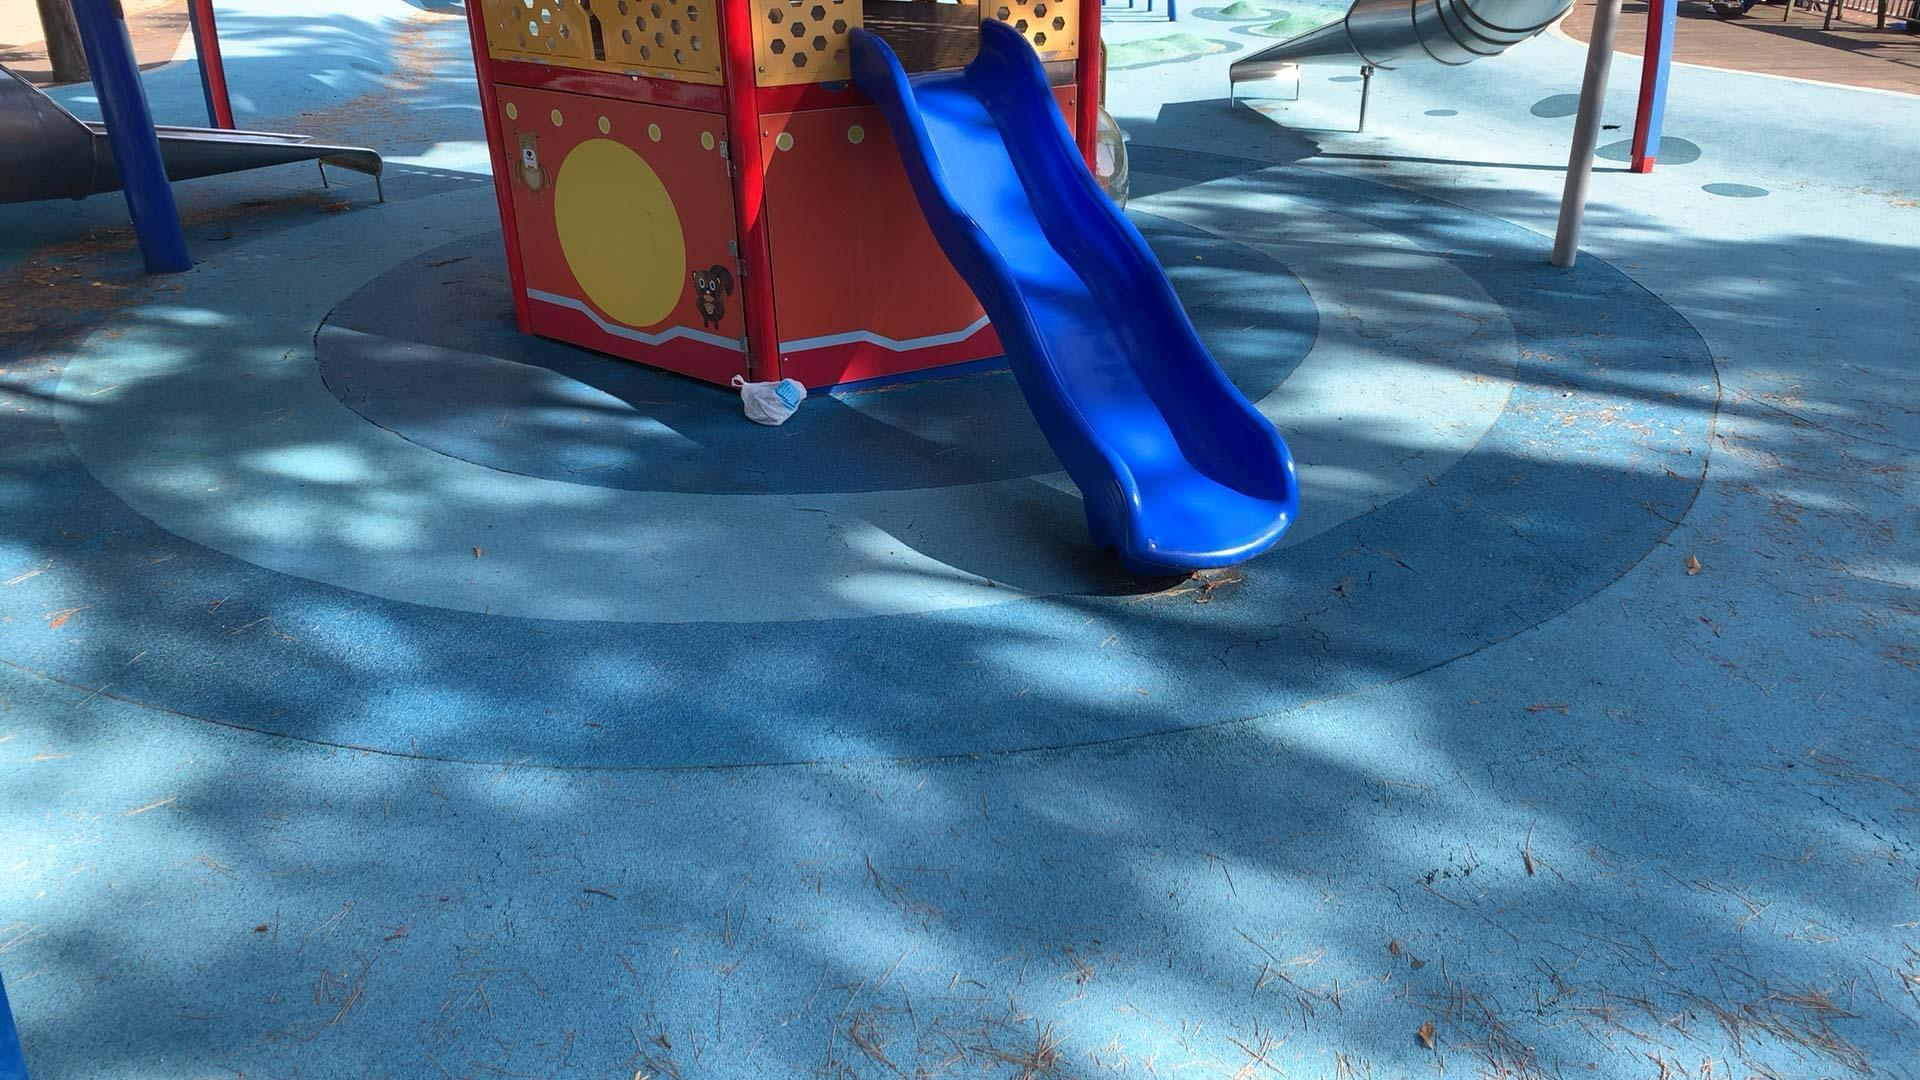white_bag: (725, 365, 814, 433)
